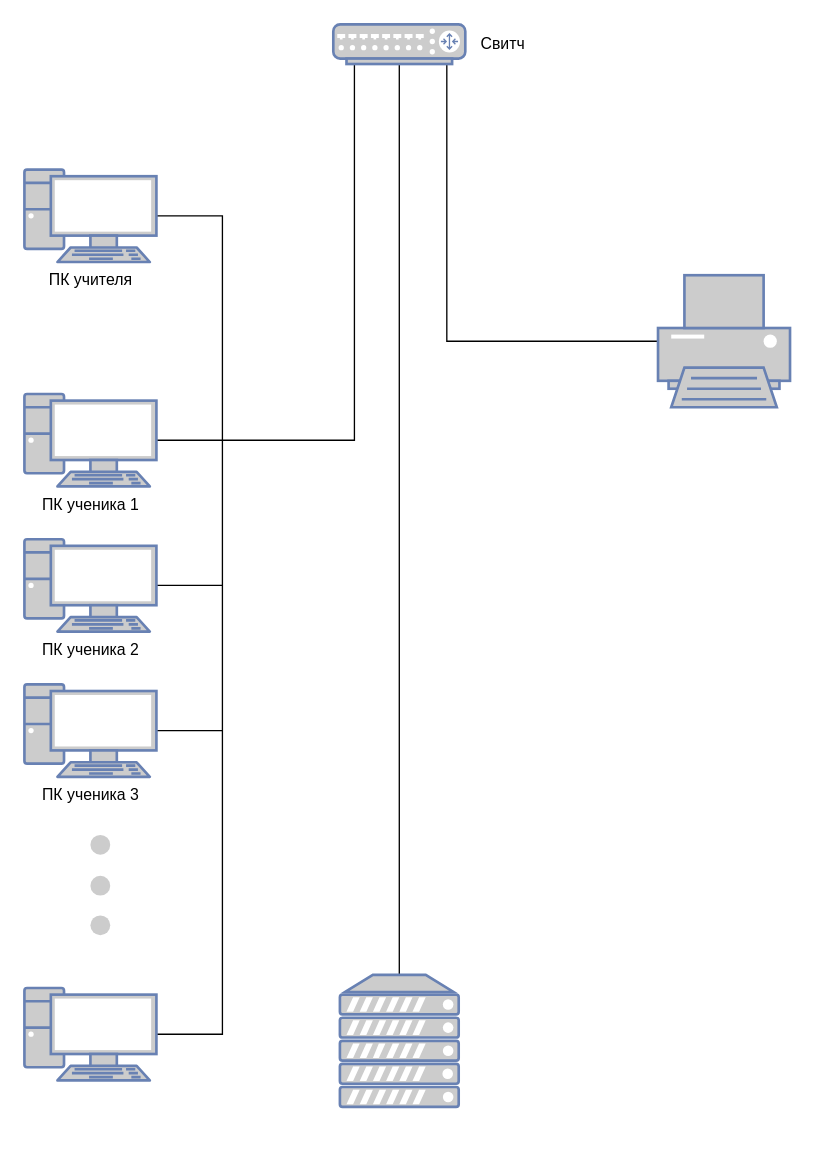
This 813x1156 diagram has some shape labels left out. Here are the shapes that lost their labels. From the top down, the box of each, then its label:
(656, 273, 791, 408): Принтер
(22, 986, 157, 1081): ПК ученика 14
(338, 973, 459, 1107): Сервер школы
